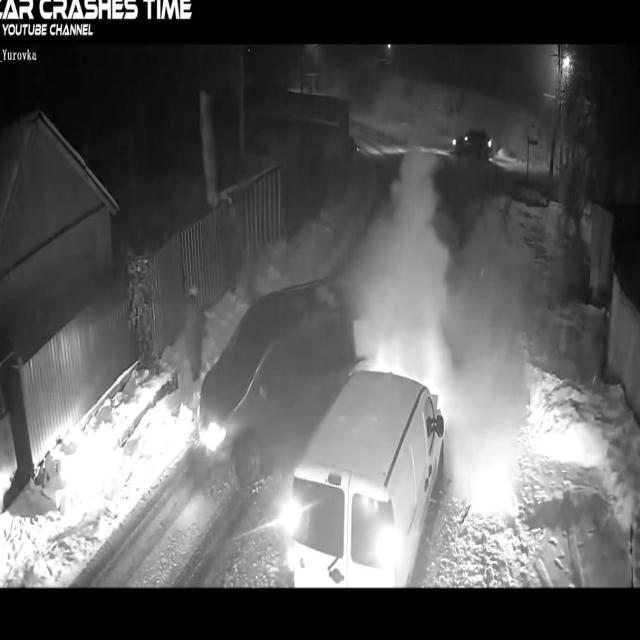accident: (196, 274, 449, 586)
